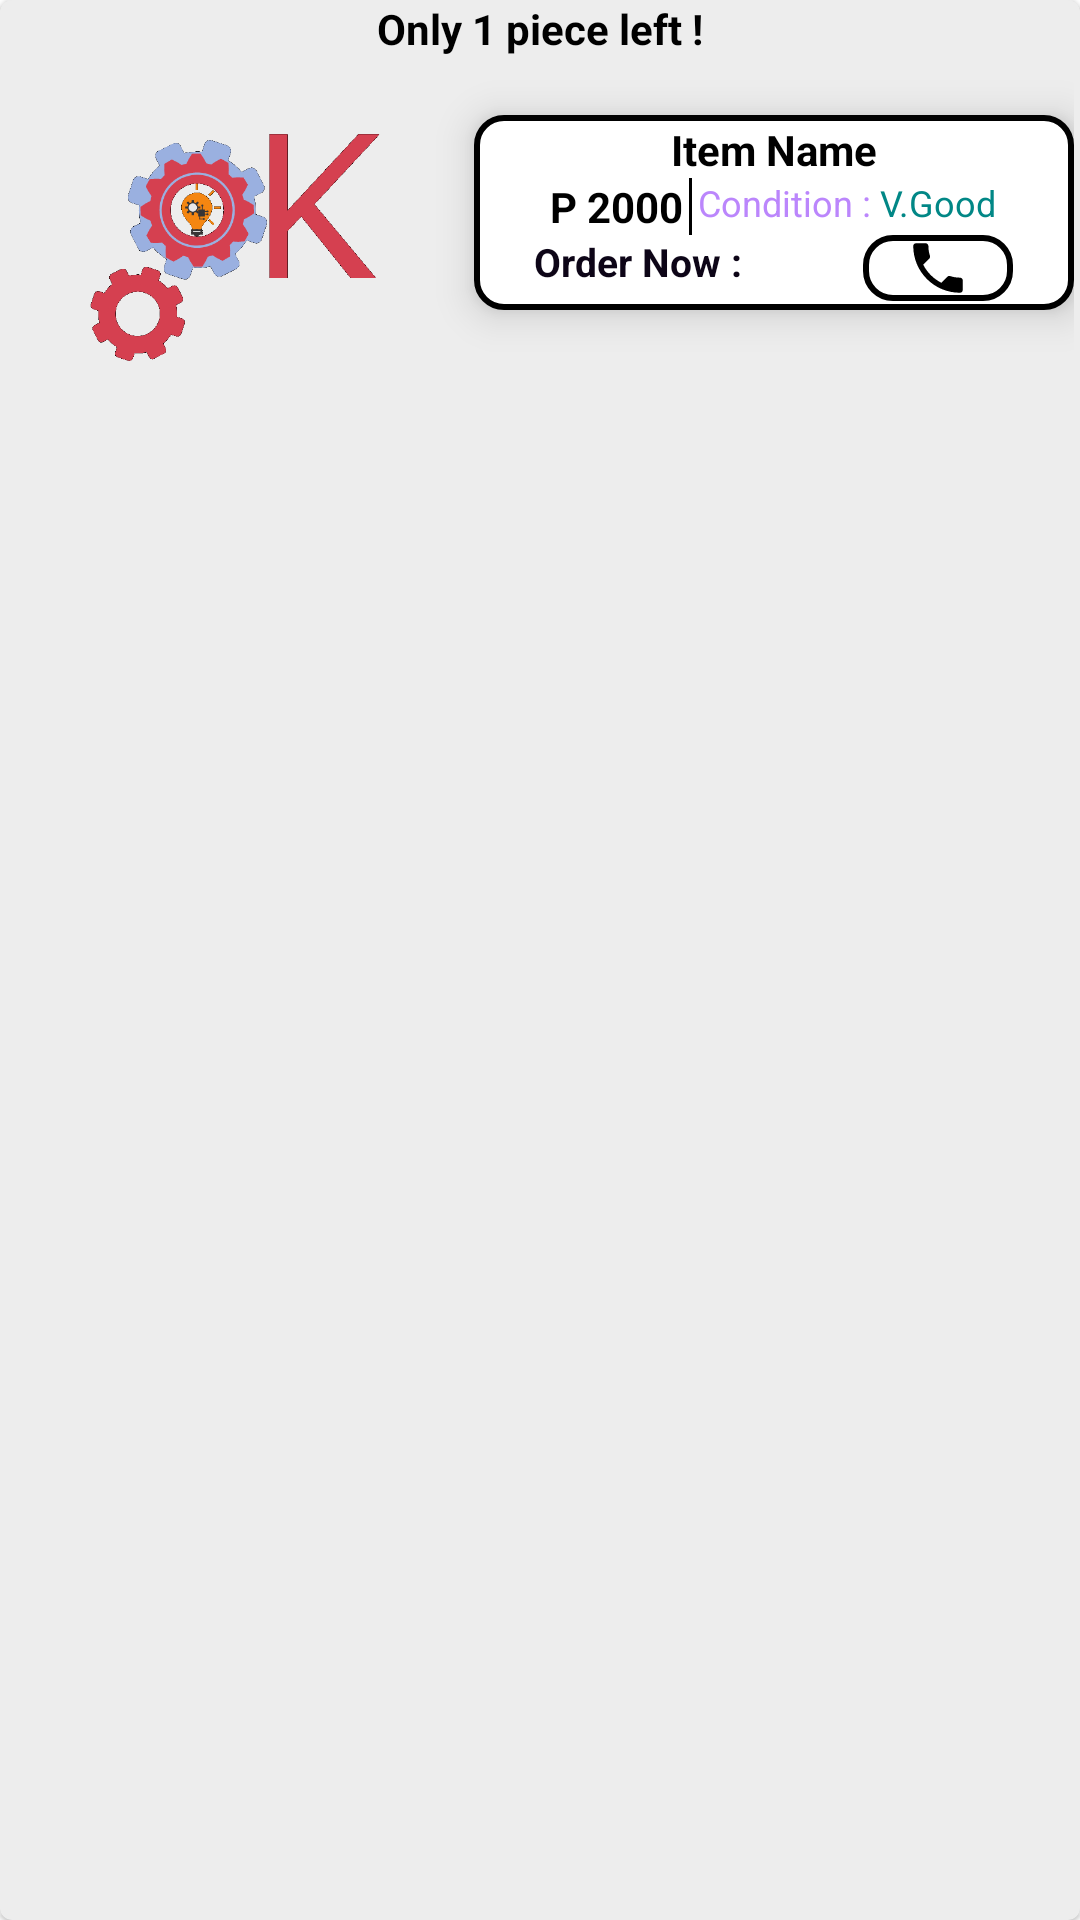

Screen size 1080x1920. Icon name, then its box in pixels as (x1, y1, x2, y2):
phone: (863, 235, 1013, 301)
